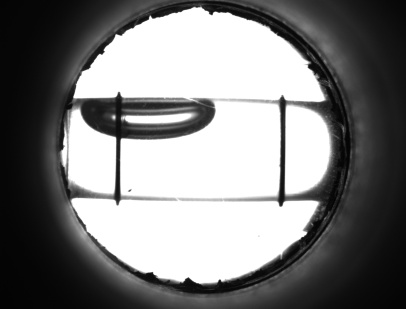line: (273, 116, 291, 185), (113, 144, 124, 186)
